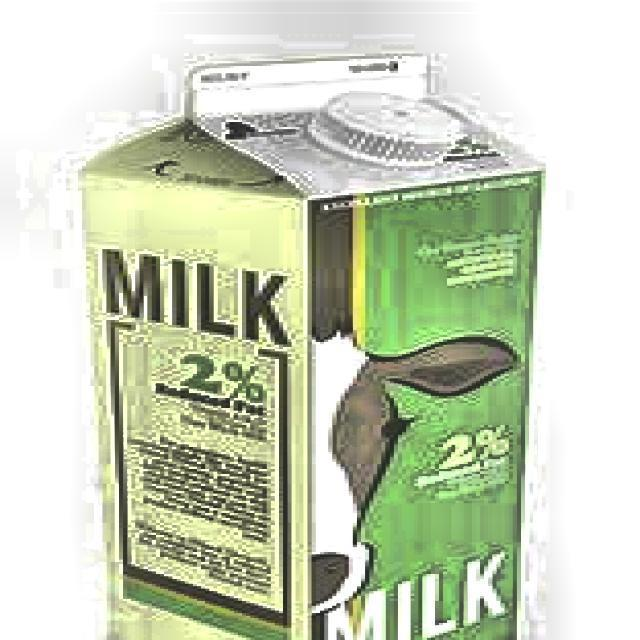cardboard: (78, 53, 545, 640)
